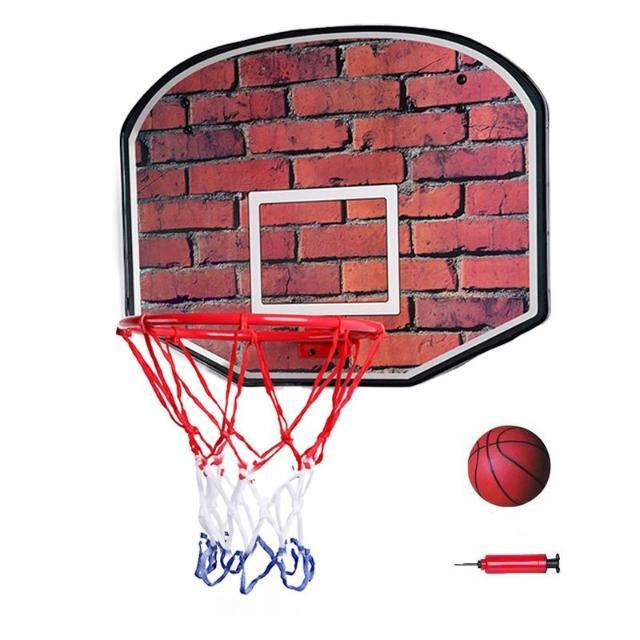basketball: (469, 424, 551, 506)
rim: (118, 311, 382, 591)
